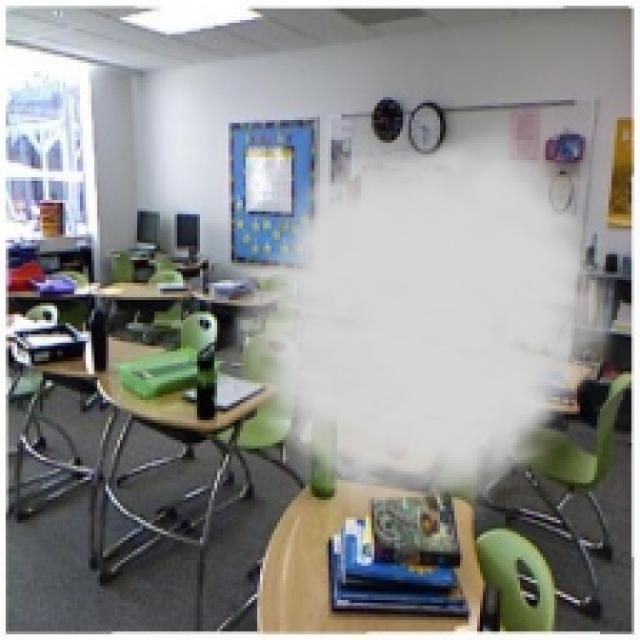smoke: (215, 114, 634, 520)
